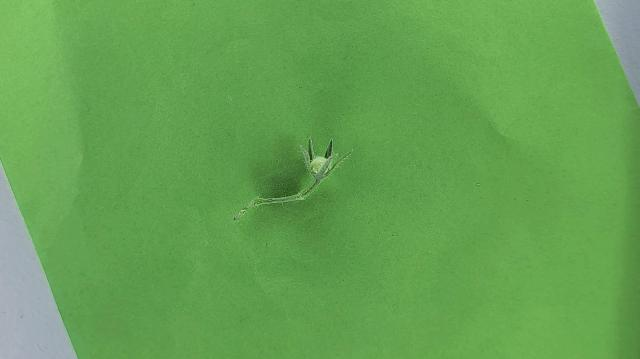Fruit Bud: (301, 136, 335, 179)
